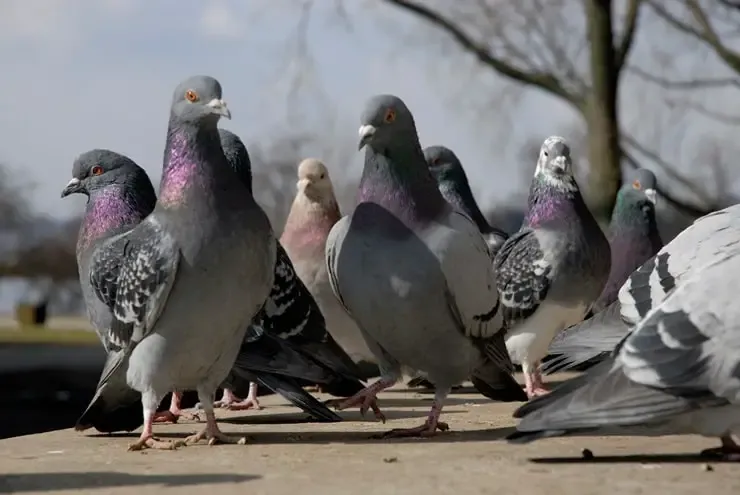Flying Rat: (334, 93, 488, 397), (123, 74, 243, 425), (514, 127, 608, 414), (65, 155, 165, 348), (585, 161, 679, 351), (275, 153, 351, 339)
